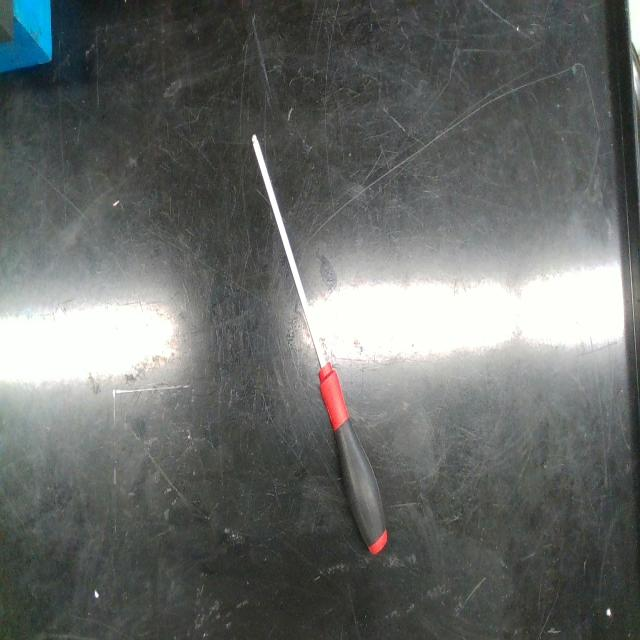Screwdriver: (251, 136, 388, 556)
